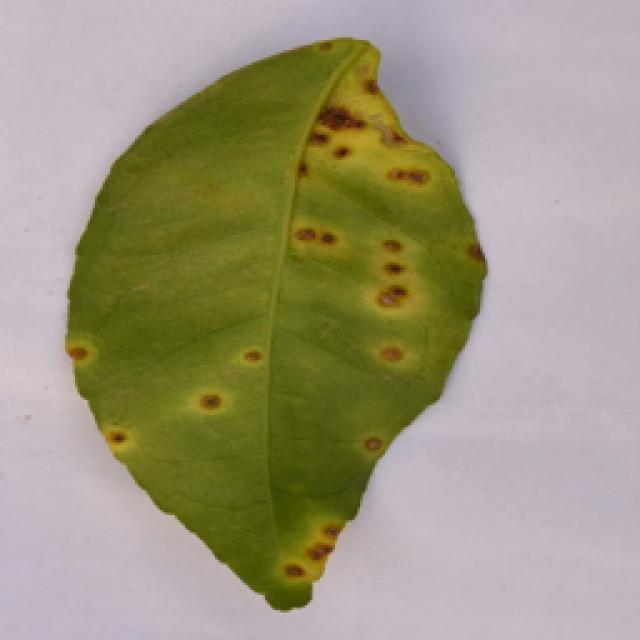canker: (58, 31, 478, 610)
